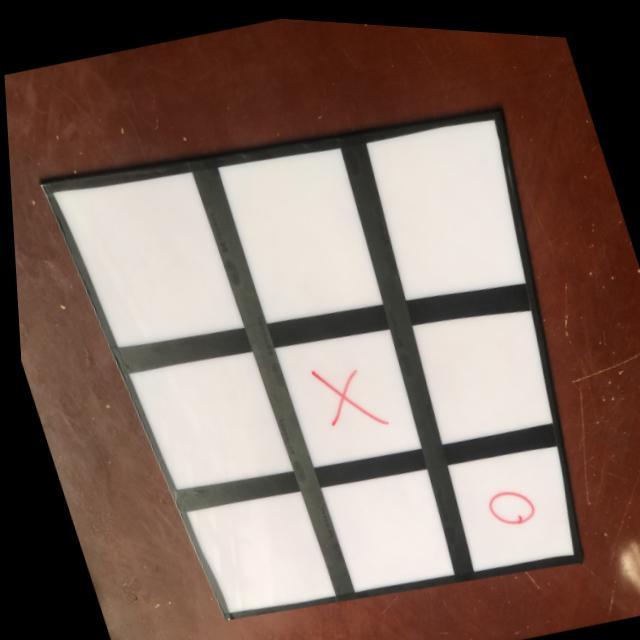null: (52, 147, 241, 366), (215, 130, 381, 329), (364, 109, 523, 298), (124, 330, 289, 506), (410, 298, 549, 439), (178, 484, 327, 615), (313, 456, 448, 596)
o: (472, 473, 540, 533)
table: (39, 103, 581, 634)
x: (297, 341, 387, 440)
